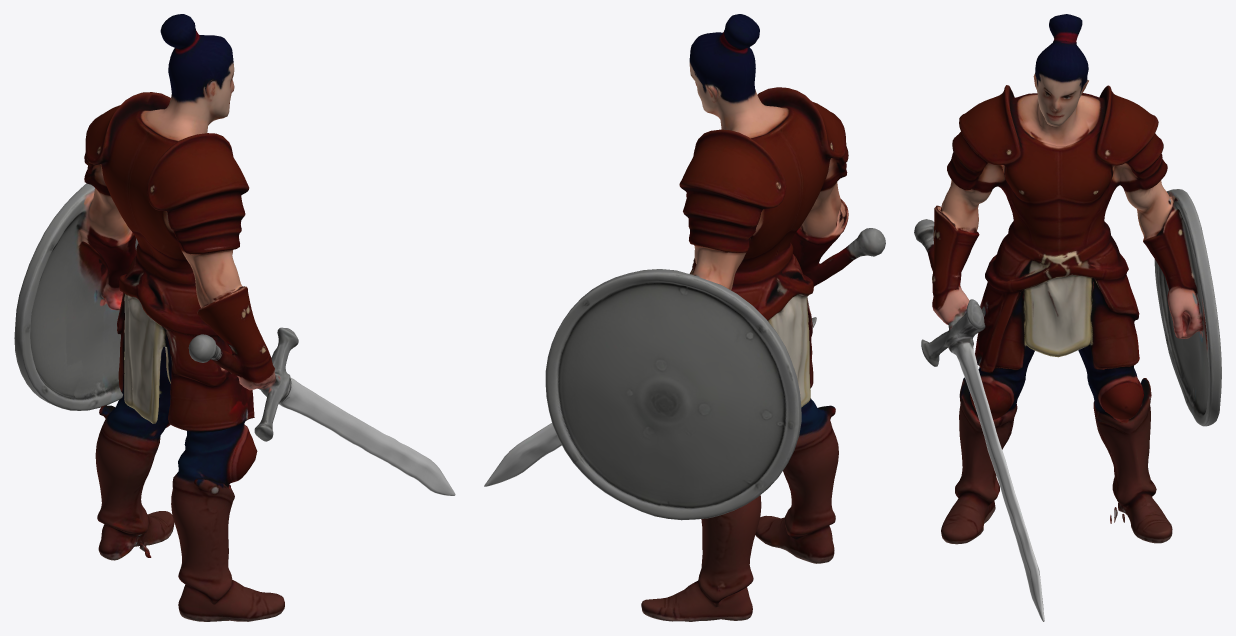
File: ClintF.fbx
3 views of the same model, side by side, from view 1: azimuth 30°, elevation 25°; view 2: azimuth 150°, elevation 25°; view 3: azimuth 270°, elevation 25° (orthographic). The views are drawn at different scales.
Visible parts, largest first — view 1: tripo_node_b793ff25; view 2: tripo_node_b793ff25; view 3: tripo_node_b793ff25.
Boxes of the visible parts, box(x1,y1,x2,y2) form: tripo_node_b793ff25: box(14, 14, 455, 621); tripo_node_b793ff25: box(484, 14, 885, 621); tripo_node_b793ff25: box(914, 14, 1221, 621).
Size of the model in its own units: 0.6997 by 0.9985 by 0.5419.
1 material, 1 textured.
